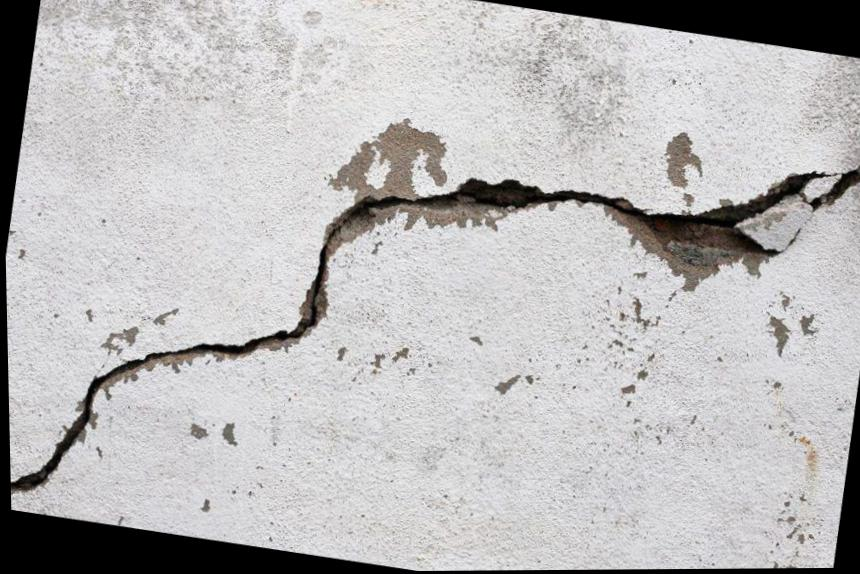crack: (8, 164, 860, 493)
damage: (324, 118, 555, 255), (601, 196, 779, 309)
